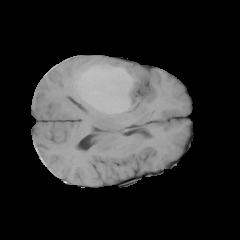glioma: (75, 60, 151, 115)
